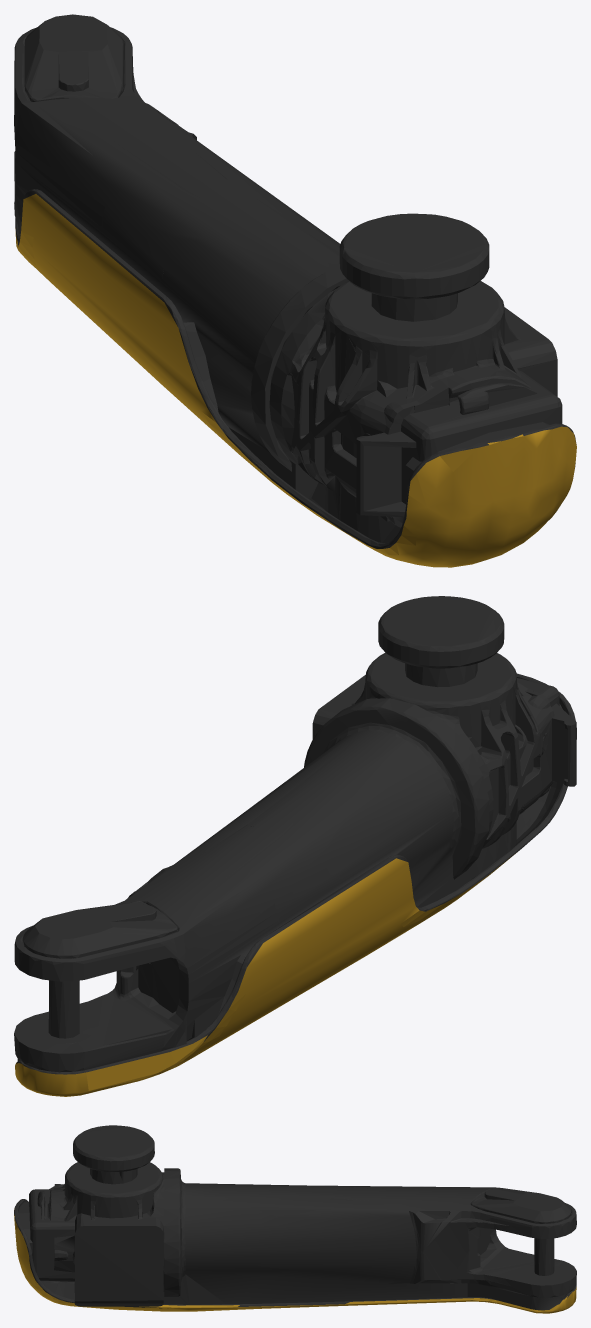
File: front_right_upper_leg.glb
3 renders of one model, top to bottom at view 1: azimuth 30°, elevation 25°; view 2: azimuth 150°, elevation 25°; view 3: azimuth 270°, elevation 25°, orthographic. The views are drawn at different scales.
Parts seen in each view (by area): view 1: front_right_upper_leg; view 2: front_right_upper_leg; view 3: front_right_upper_leg.
Boxes of the visible parts, x1=… form: front_right_upper_leg: x1=14, y1=14, x2=576, y2=567; front_right_upper_leg: x1=14, y1=596, x2=576, y2=1096; front_right_upper_leg: x1=14, y1=1125, x2=576, y2=1313.
Bounding box in the file's own units: 0.1011 × 0.1323 × 0.4184.
